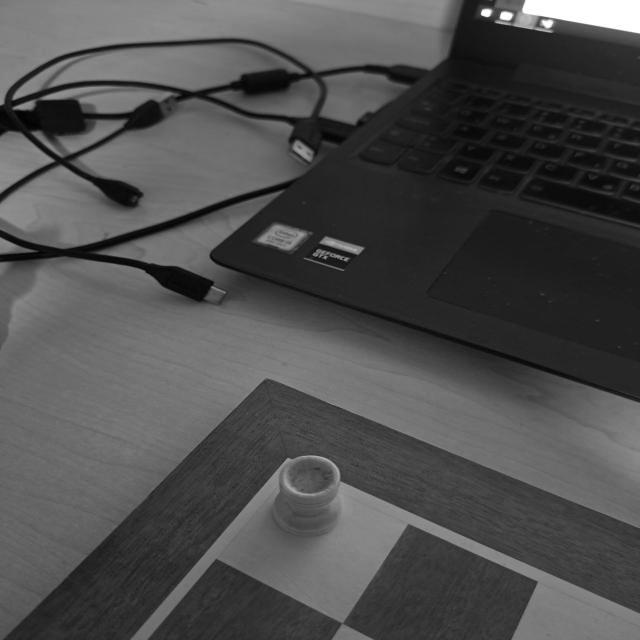chess-table-corners: (246, 446, 352, 504)
